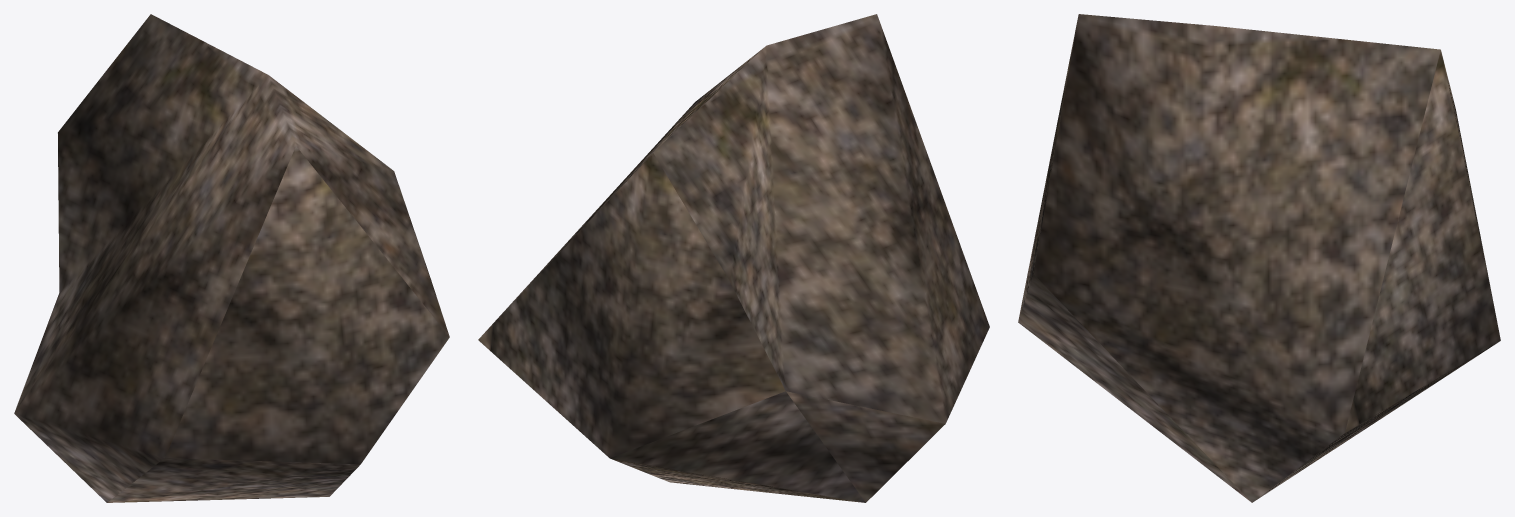
Rendered from Type1_Rock_medium_2.fbx.
3 views of the same model, side by side, from view 1: azimuth 30°, elevation 25°; view 2: azimuth 150°, elevation 25°; view 3: azimuth 270°, elevation 25° (orthographic). The views are drawn at different scales.
Visible parts, largest first — view 1: Type1_Rock_medium_2; view 2: Type1_Rock_medium_2; view 3: Type1_Rock_medium_2.
Part boxes in pixels (x1,y1,x2,y2): Type1_Rock_medium_2: (14, 14, 449, 502); Type1_Rock_medium_2: (478, 14, 989, 502); Type1_Rock_medium_2: (1018, 14, 1500, 502).
Bounding box in the file's own units: 1.88 × 1.82 × 1.82.
